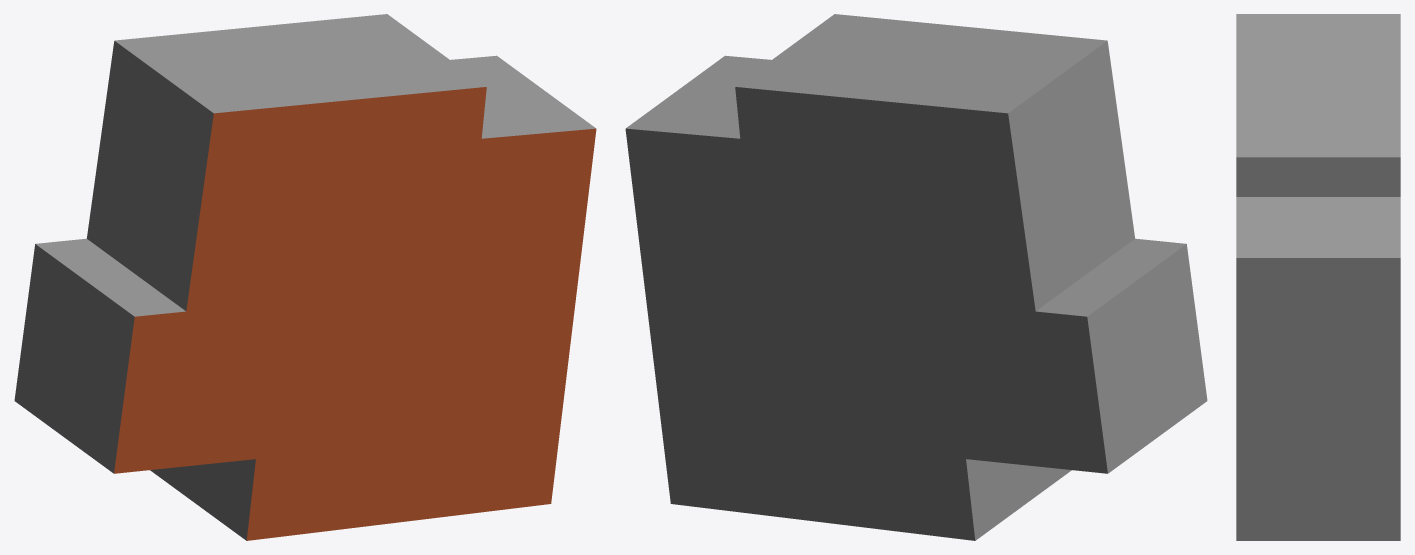
Rendered from construction_5209_assumed_A_Casa_h6m.obj.
The picture shows the model from 3 angles, left to right: view 1: azimuth 30°, elevation 25°; view 2: azimuth 150°, elevation 25°; view 3: azimuth 270°, elevation 25°; orthographic projection. The views are drawn at different scales.
Visible parts, largest first — view 1: construction_5209_assumed_A_Casa; view 2: construction_5209_assumed_A_Casa; view 3: construction_5209_assumed_A_Casa.
Part boxes in pixels (x1,y1,x2,y2): construction_5209_assumed_A_Casa: [14, 14, 596, 540]; construction_5209_assumed_A_Casa: [625, 14, 1207, 540]; construction_5209_assumed_A_Casa: [1236, 14, 1400, 540].
Bounding box in the file's own units: 16.8 × 15.73 × 6.
